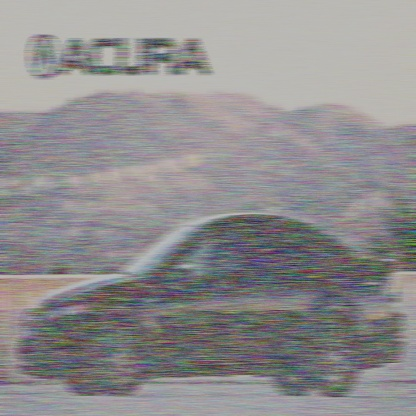Vehicle: (17, 213, 406, 400)
